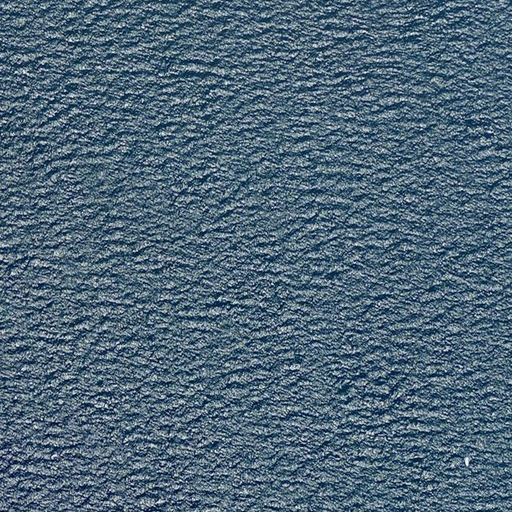ship: (463, 456, 471, 468)
